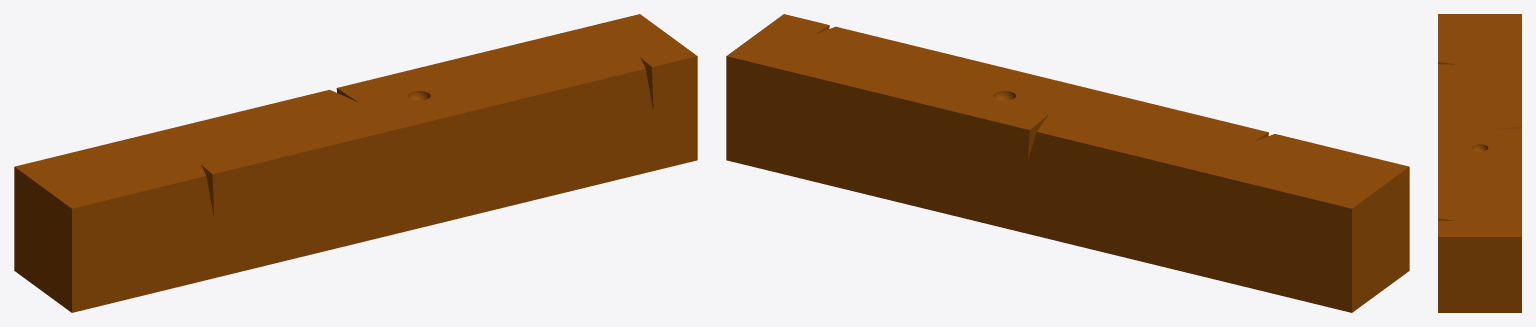
Rendered from wall.fbx.
3 renders of one model, left to right at view 1: azimuth 30°, elevation 25°; view 2: azimuth 150°, elevation 25°; view 3: azimuth 270°, elevation 25°, orthographic. The views are drawn at different scales.
Parts seen in each view (by area): view 1: Cube; view 2: Cube; view 3: Cube.
Boxes of the visible parts, <box> form: Cube: <box>14,14,697,312</box>; Cube: <box>726,14,1409,312</box>; Cube: <box>1438,14,1521,312</box>.
Size of the model in its own units: 1256 by 200 by 200.
